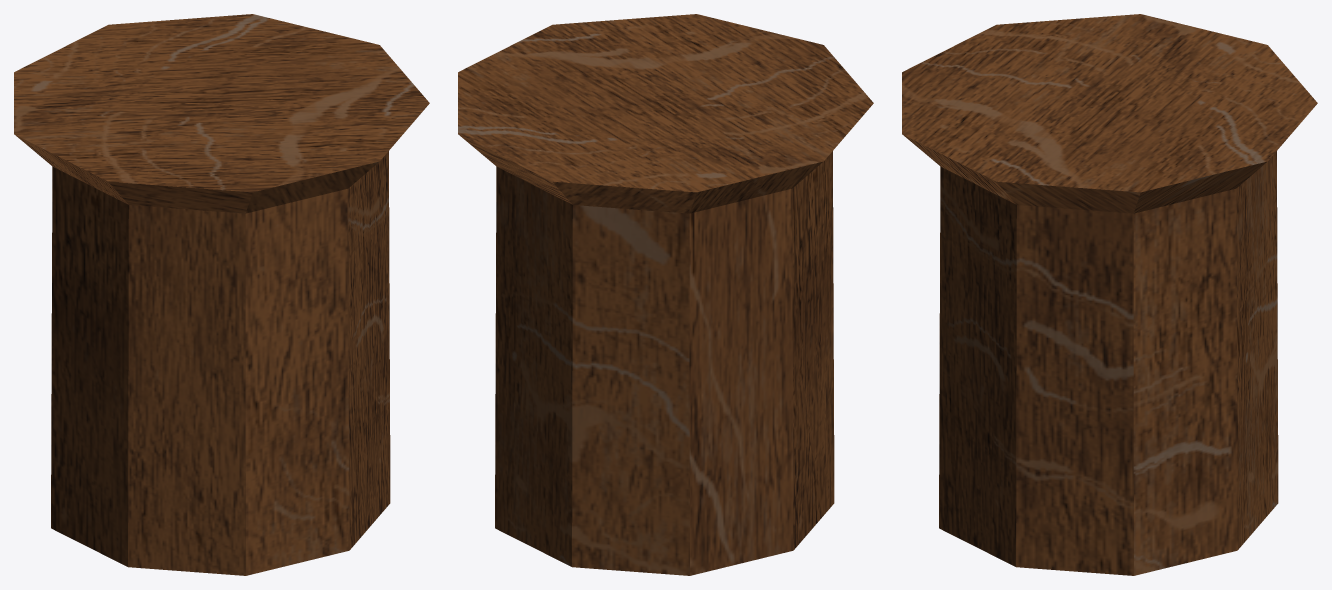
Rendered from tabouri.glb.
The picture shows the model from 3 angles, left to right: view 1: azimuth 30°, elevation 25°; view 2: azimuth 150°, elevation 25°; view 3: azimuth 270°, elevation 25°; orthographic projection.
Visible parts, largest first — view 1: Circle; view 2: Circle; view 3: Circle.
Part boxes in pixels (x1,y1,x2,y2): Circle: [14, 14, 429, 575]; Circle: [458, 14, 873, 575]; Circle: [902, 14, 1317, 575].
Size of the model in its own units: 0.0523 by 0.0546 by 0.0515.
1 material, 1 textured.
